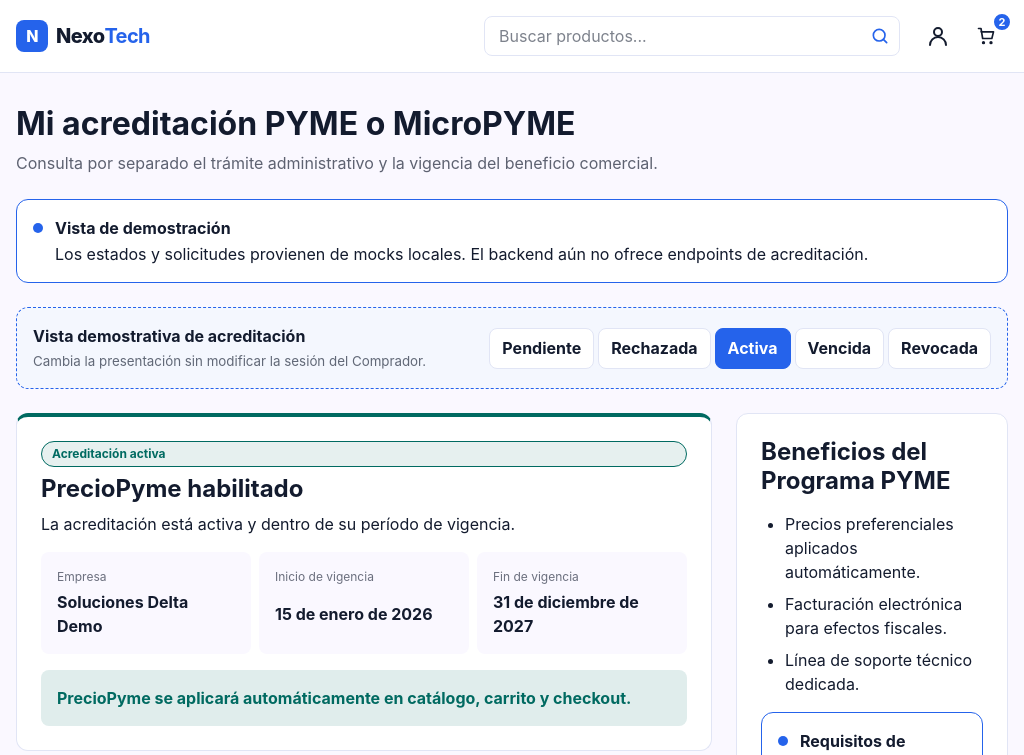
AccreditationStatusPage › presenta la variante Pendiente desde sus tabs
Click the button "Pendiente": (542, 348) [489, 328, 594, 369]
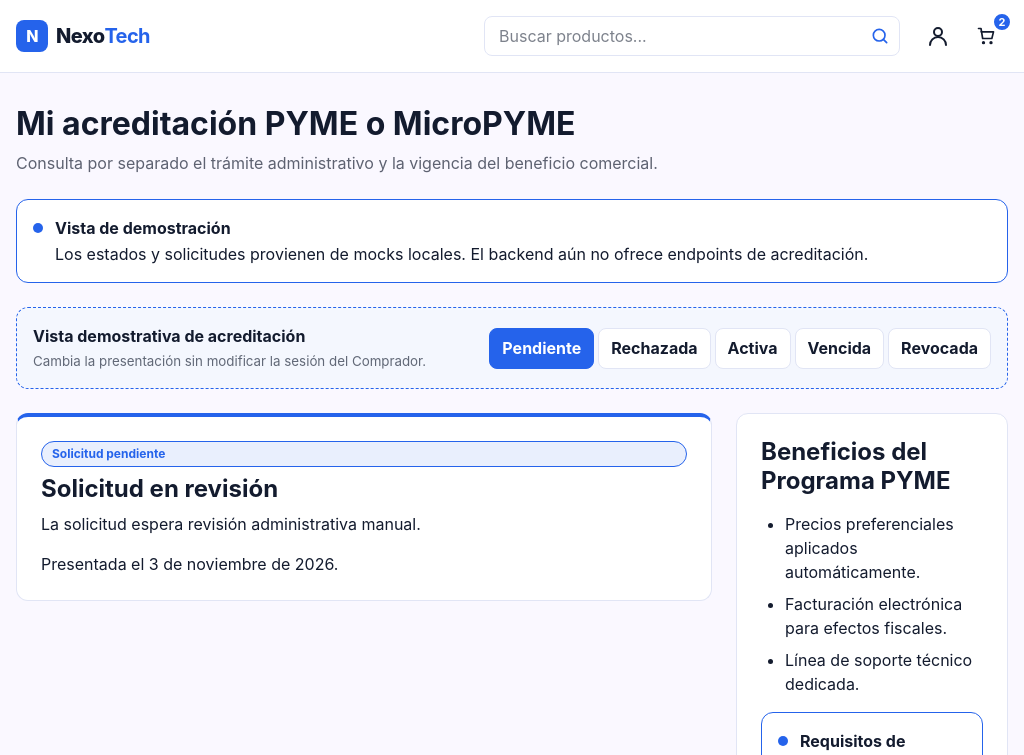
Expected: the heading "Solicitud en revisión" is shown, [41, 474, 278, 503]
